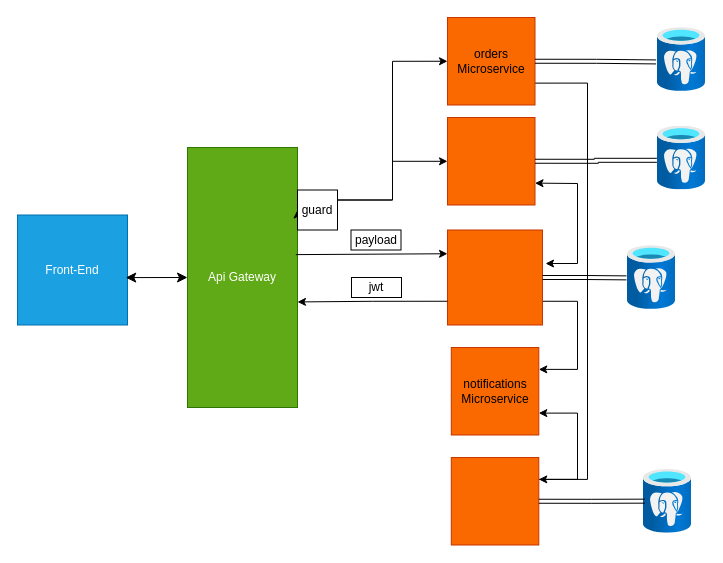
Some shapes in this 723 by 563 pixel diagram are drawn without their labels. The shapes that lost their labels are listed below. From the top down, each one's box as (x1, y1, x2, y2) in pixels, then its label:
(446, 116, 535, 205): Users Microservice
(446, 229, 542, 325): Auth Microservice
(450, 456, 539, 545): payments Microservice
